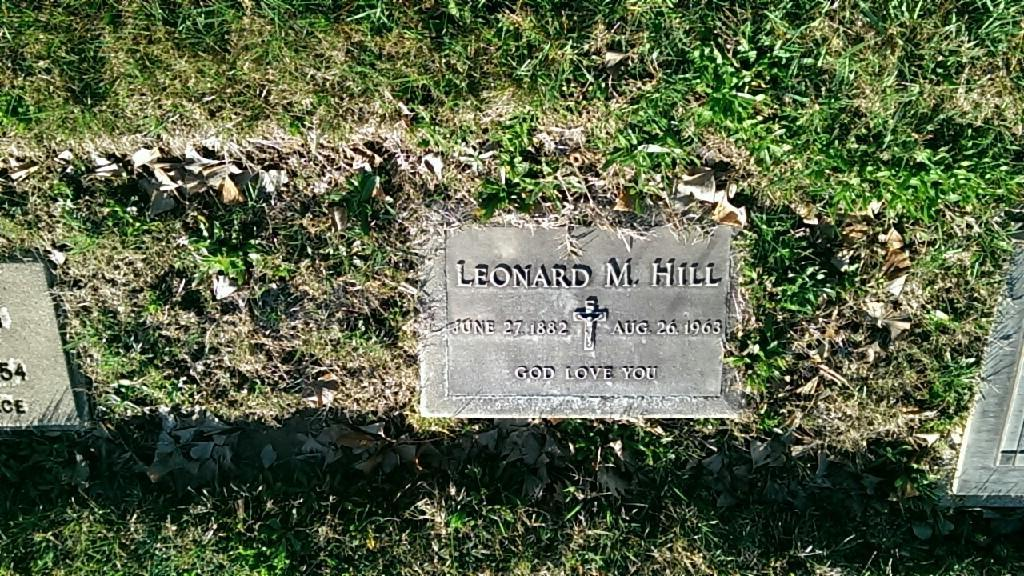flat: (413, 193, 751, 422)
